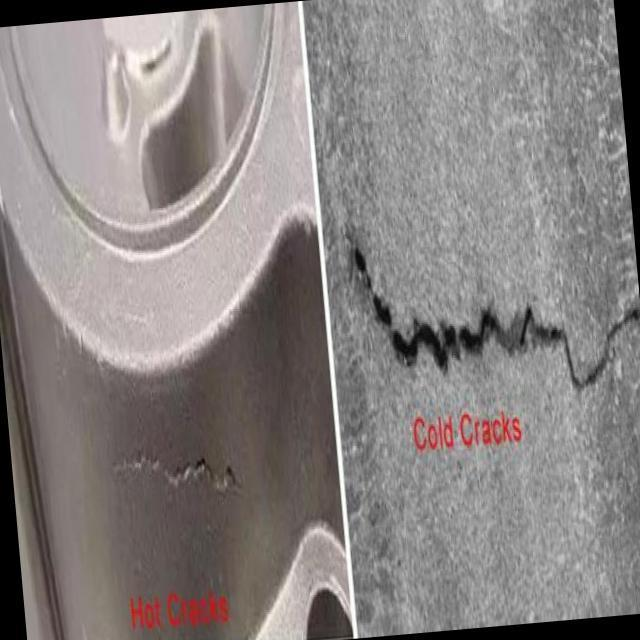defect: (349, 225, 640, 395), (99, 448, 249, 505)
